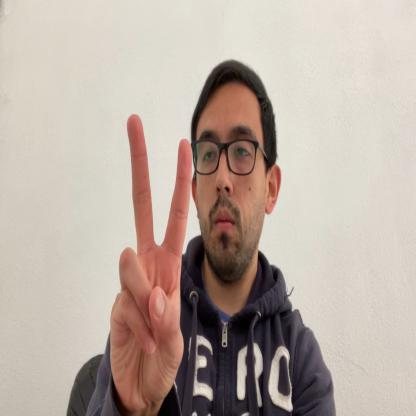V: (109, 111, 194, 415)
